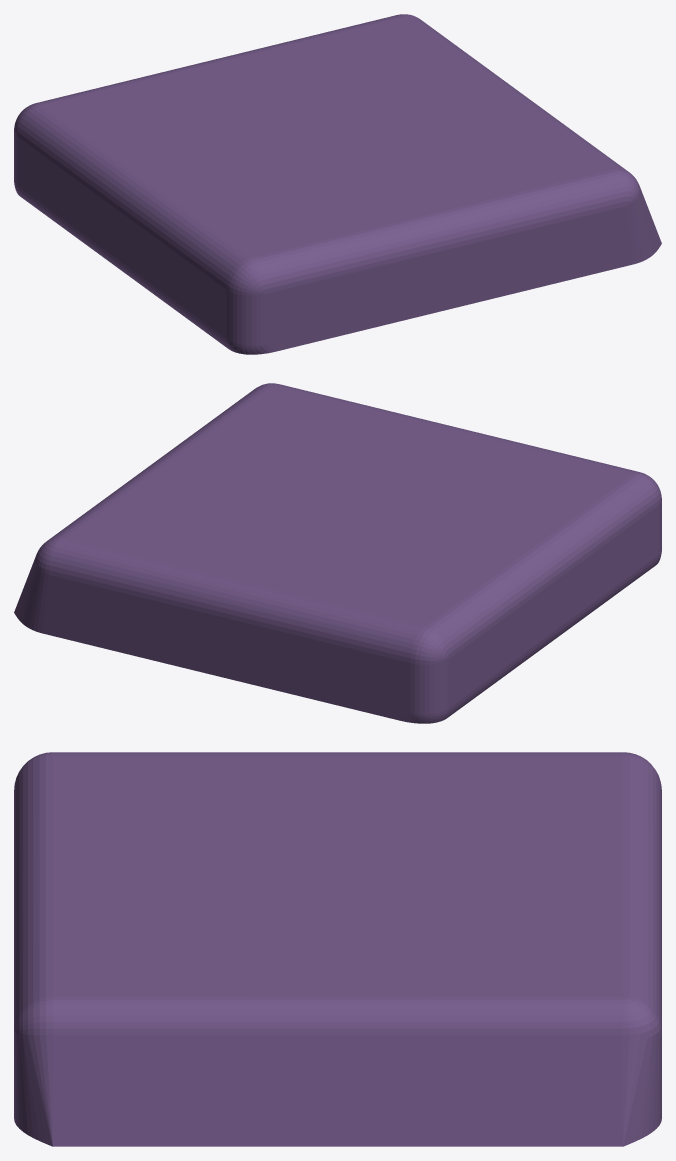
3 renders of one model, top to bottom at view 1: azimuth 30°, elevation 25°; view 2: azimuth 150°, elevation 25°; view 3: azimuth 270°, elevation 25°, orthographic. The views are drawn at different scales.
Bounding box in the file's own units: 0.0404 × 0.00762 × 0.0381.
